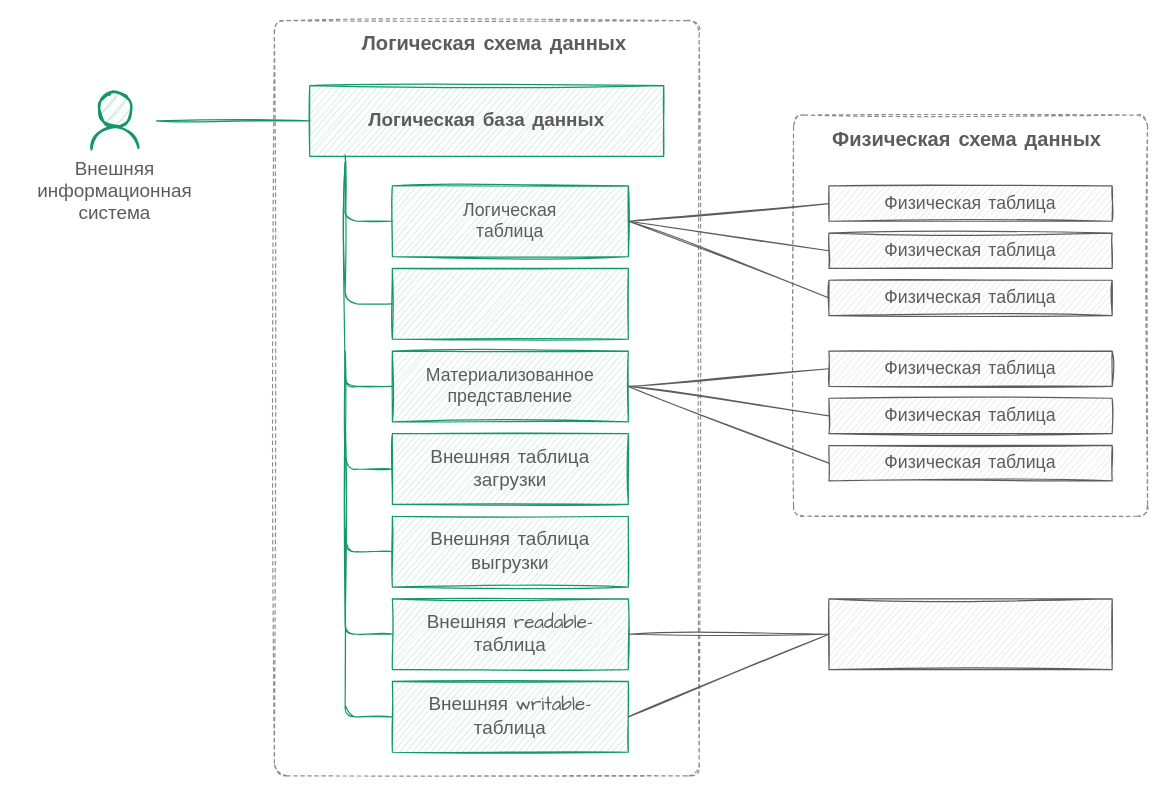
The diagram is 1168 pixels wide and 796 high, and some of its shapes have lost their labels. Each missing label, with the centre of its shape:
"Standalone-таблица" goes at [970,634].
"Логическое представление" goes at [509,303].
